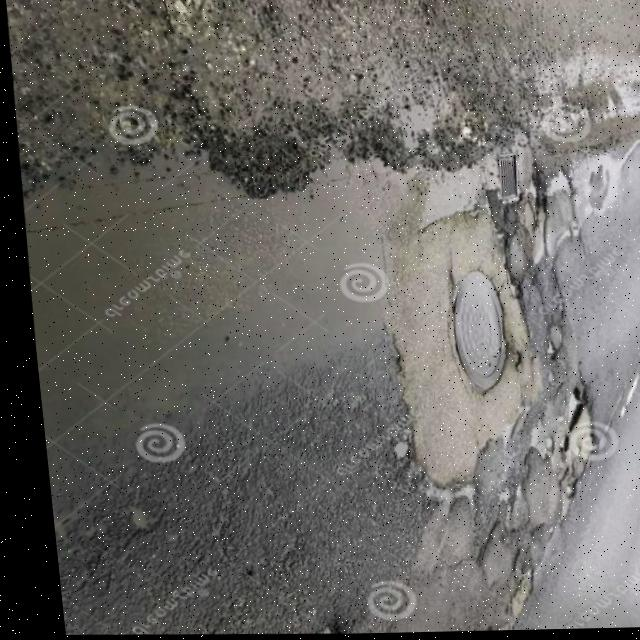Pothole: (549, 383, 598, 444), (492, 168, 543, 218), (487, 238, 522, 302), (538, 163, 580, 206), (250, 618, 338, 636), (533, 337, 557, 363), (548, 476, 572, 500), (529, 429, 549, 455), (547, 434, 565, 459)
